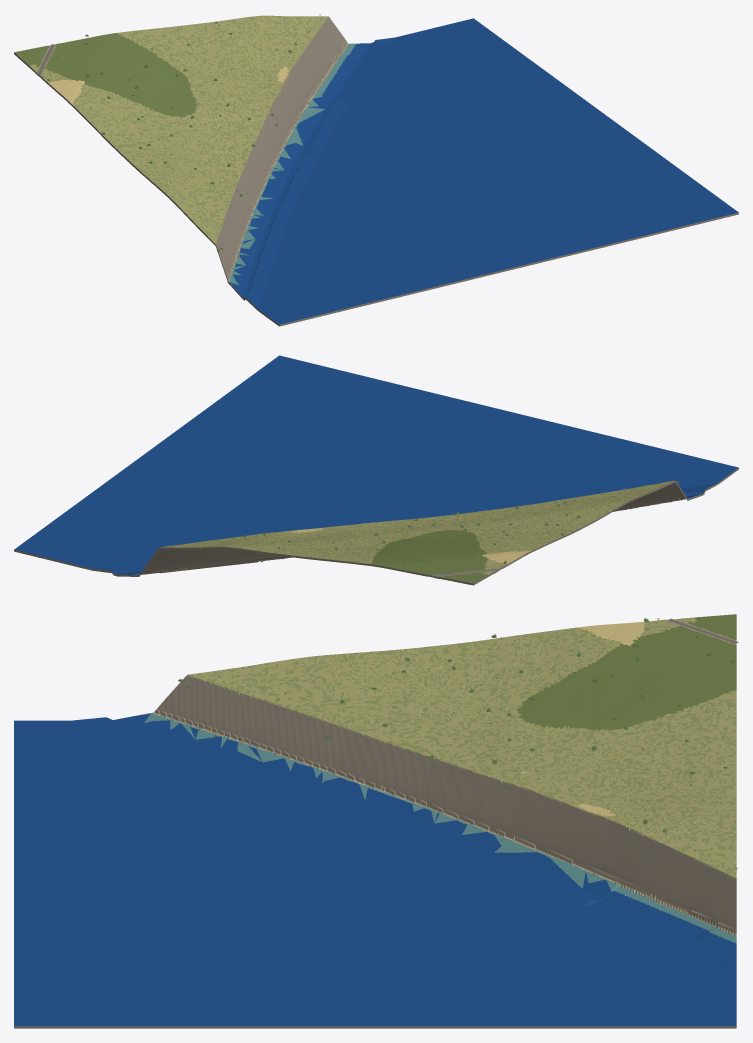
File: parca_+13_-6-yakin.glb
The picture shows the model from 3 angles, top to bottom: view 1: azimuth 30°, elevation 25°; view 2: azimuth 150°, elevation 25°; view 3: azimuth 270°, elevation 25°; orthographic projection. The views are drawn at different scales.
Parts seen in each view (by area): view 1: parca_+13_-6_arazi, parca_+13_-6_bitkiler; view 2: parca_+13_-6_arazi, parca_+13_-6_bitkiler; view 3: parca_+13_-6_arazi, parca_+13_-6_bitkiler.
Boxes of the visible parts, x1,y1,x2,y2 form: parca_+13_-6_arazi: (14, 15, 738, 326); parca_+13_-6_bitkiler: (42, 14, 331, 251); parca_+13_-6_arazi: (14, 355, 738, 585); parca_+13_-6_bitkiler: (167, 481, 678, 571); parca_+13_-6_arazi: (14, 614, 736, 1028); parca_+13_-6_bitkiler: (178, 615, 737, 893).
Size of the model in its own units: 1003 by 169 by 1003.
